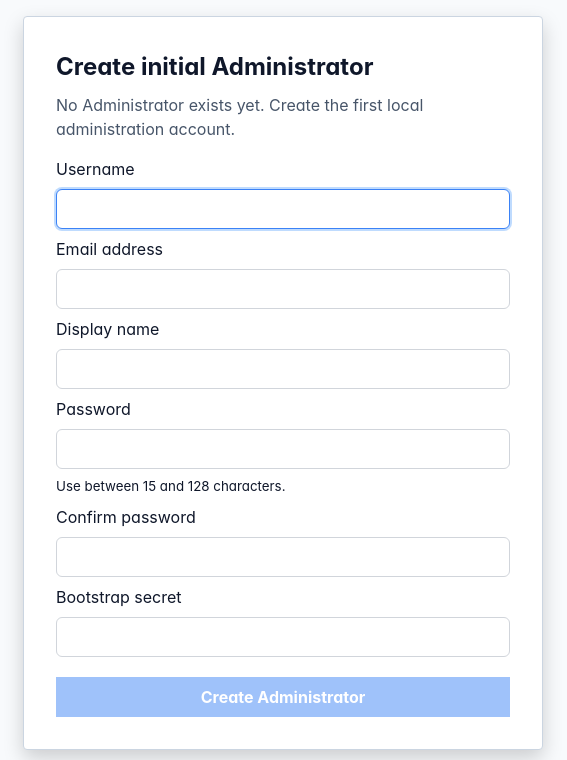
Test: BootstrapAdministratorPage › validates matching passwords before enabling registration.
Expected: the button "Create Administrator" is disabled, left=56, top=677, right=510, bottom=717
Type "different password" into the password field labelled "Confirm password" at (283,557), box left=56, top=537, right=510, bottom=577
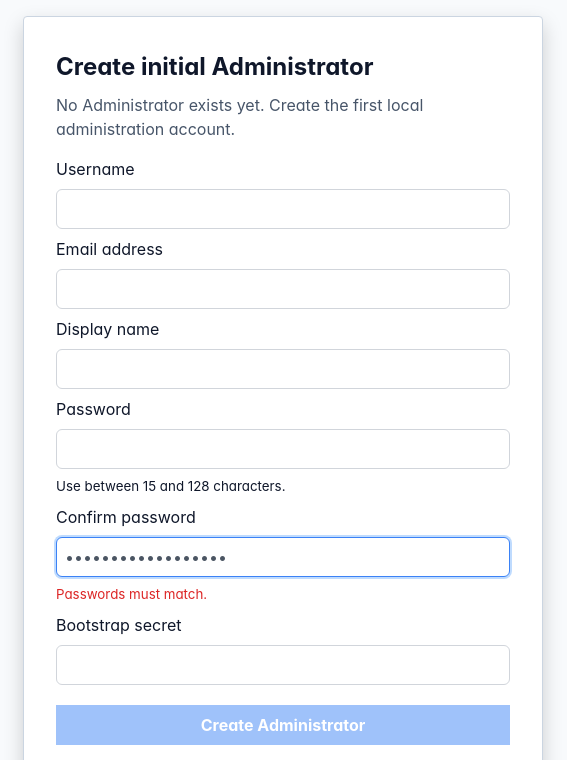
Result: the text "Passwords must match." is shown at left=56, top=586, right=207, bottom=602
